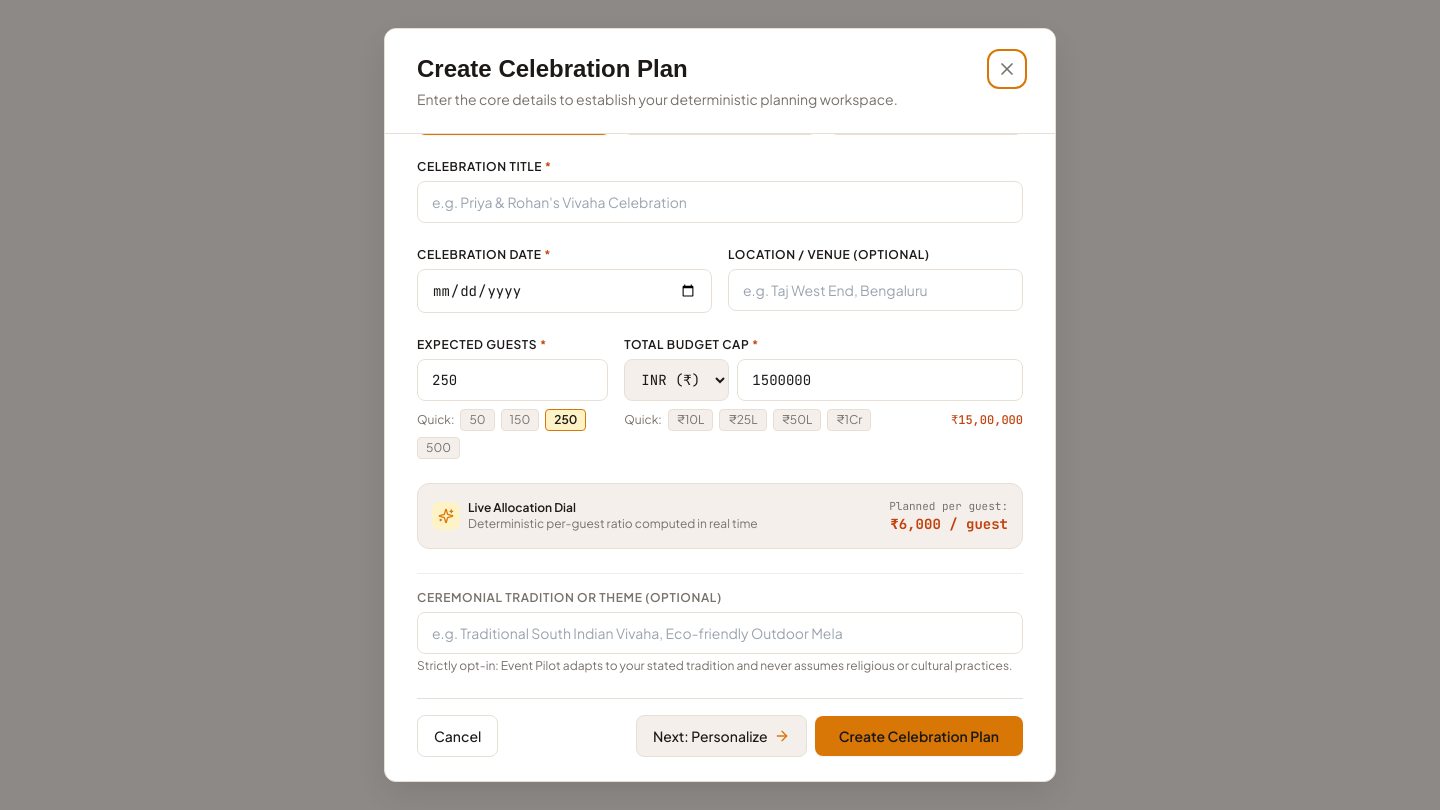
Scenario: EventCreateDialog Component › validates required fields and displays plain-language error messages
(page scrolled)
// Click submit with empty title and empty date
Click the button "Create Celebration Plan". click: (919, 736)
box: [815,716,1023,756]
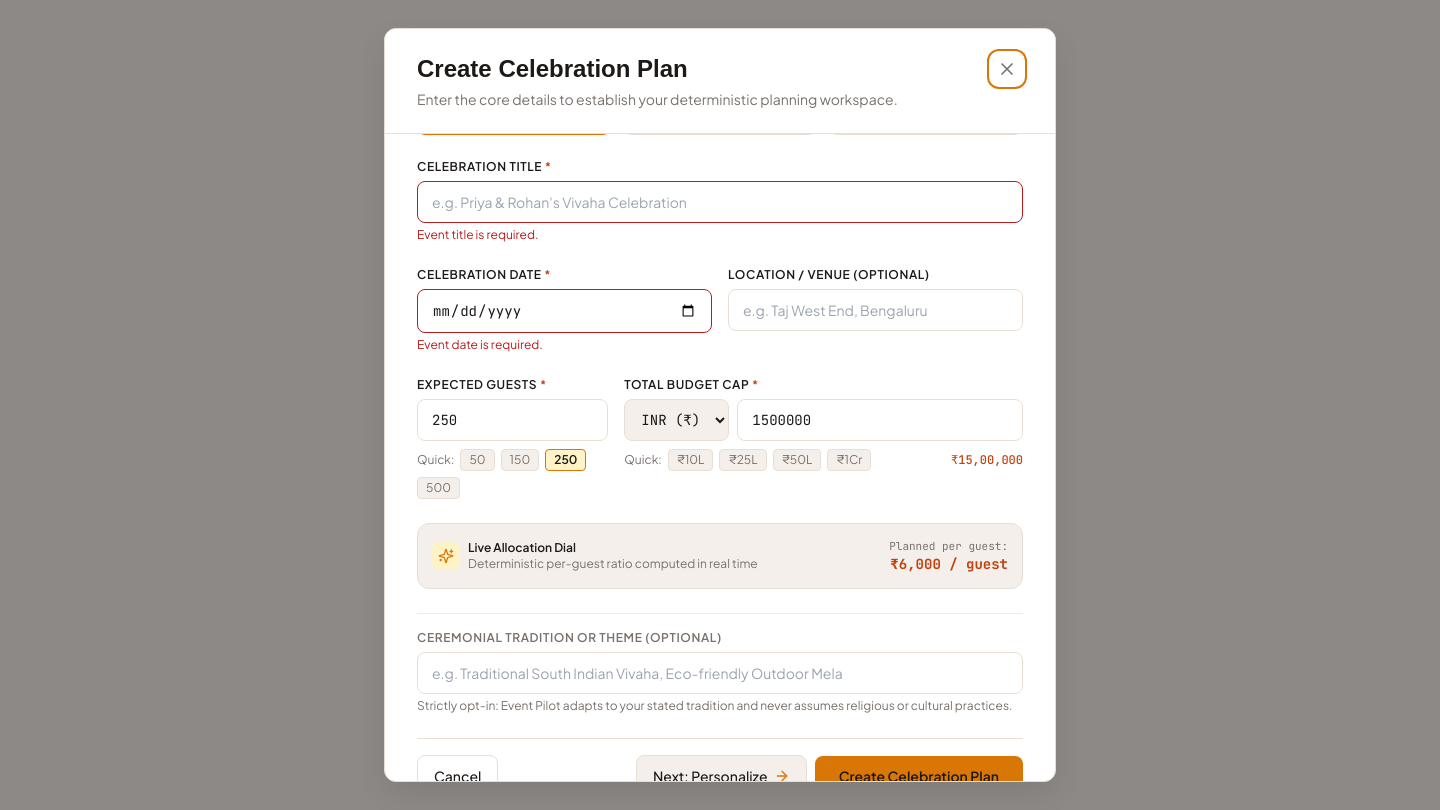
Result: the text "Event title is required." is shown at [417,227,538,242]
Result: the text "Event date is required." is shown at [417,337,543,352]
